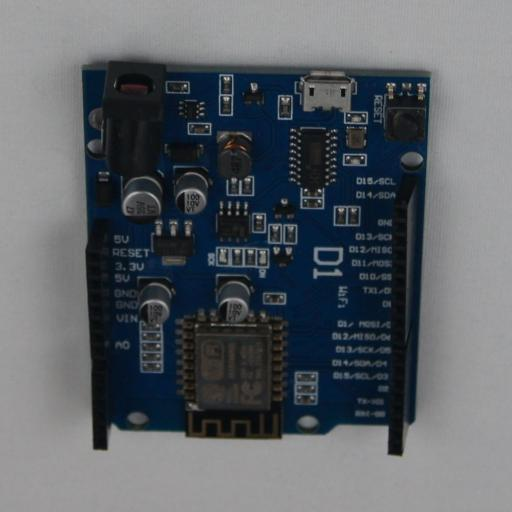Arduino Uno WiFi Shield: (82, 57, 430, 456)
